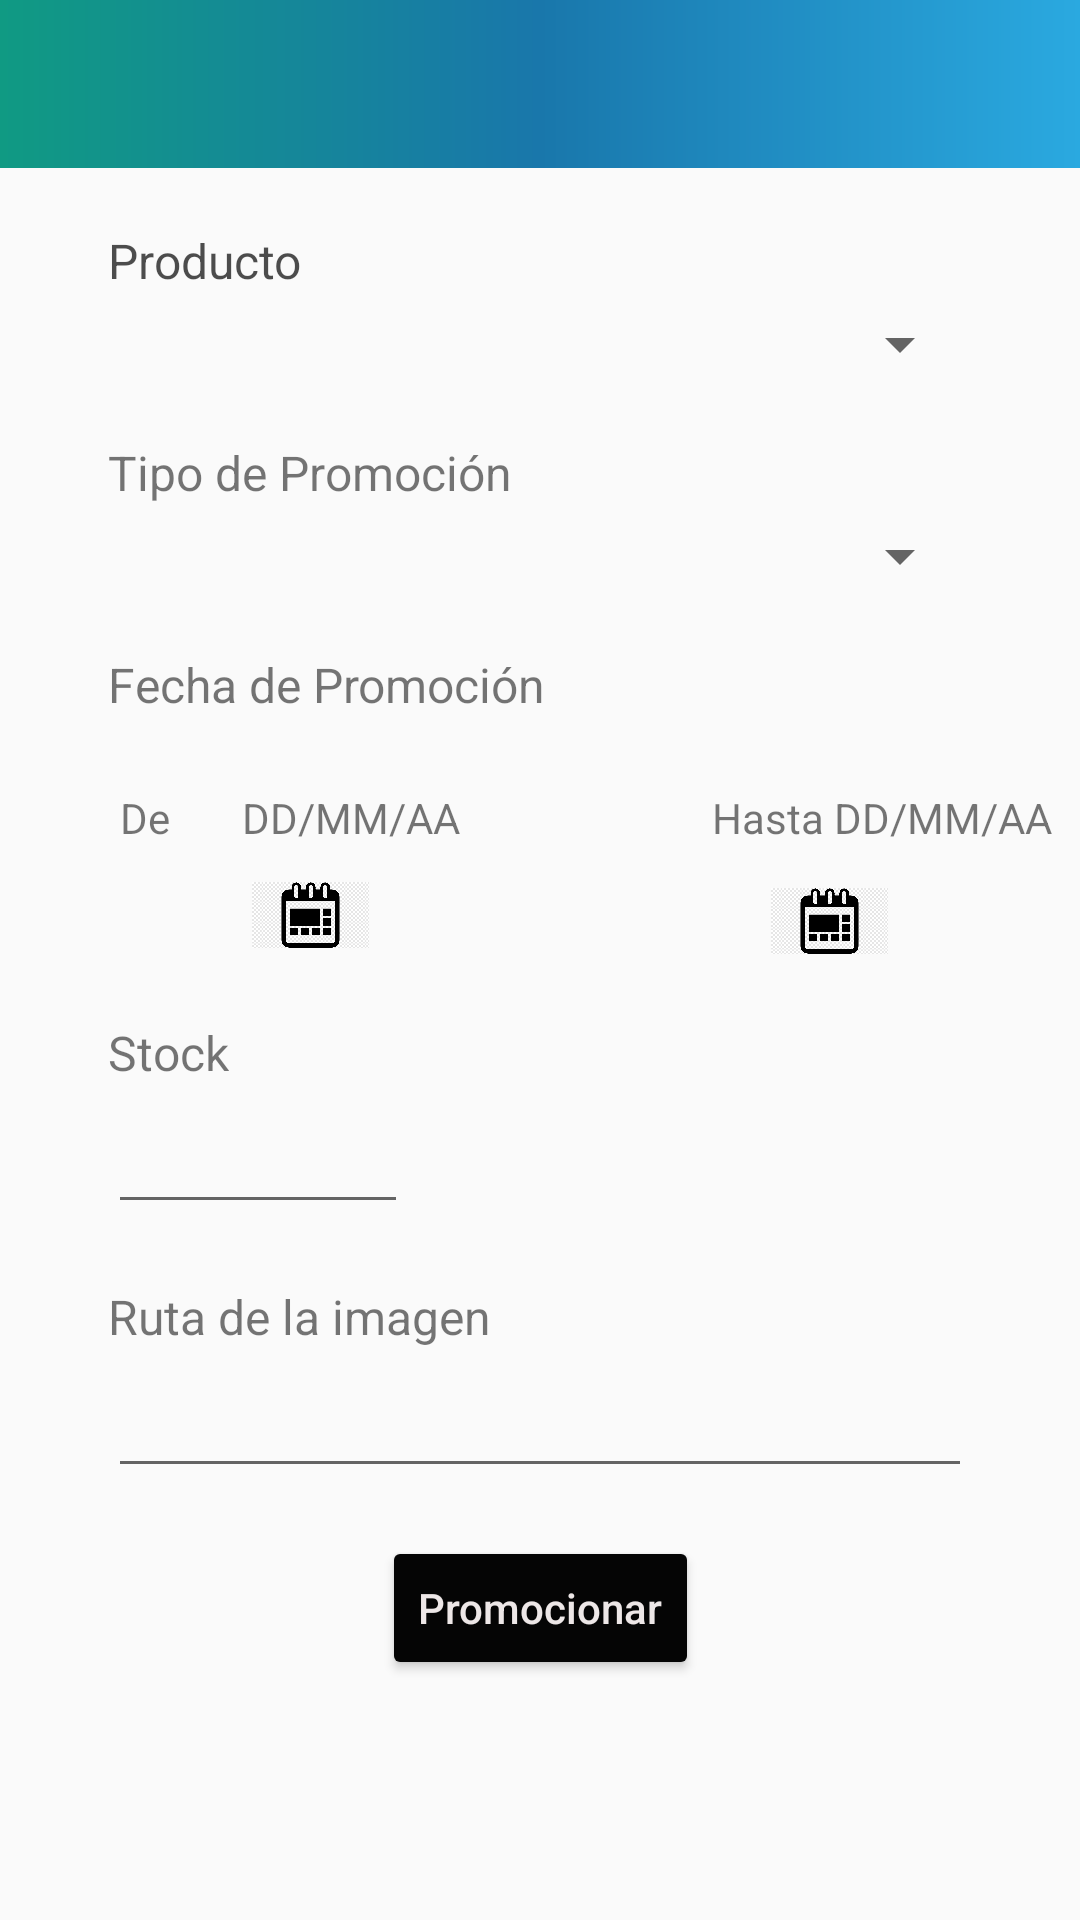

Icons on this 1080 x 1920 Android screen, each with its box as (x1,y1,x2,y2):
iconocalendario: (281,882,340,948), (800,888,859,954)
